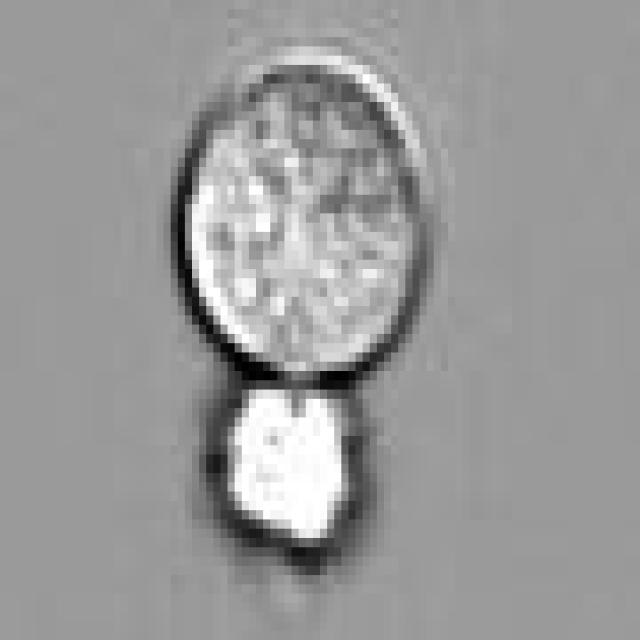Cancer Cell: (178, 56, 426, 380)
WBC: (214, 371, 348, 538)
